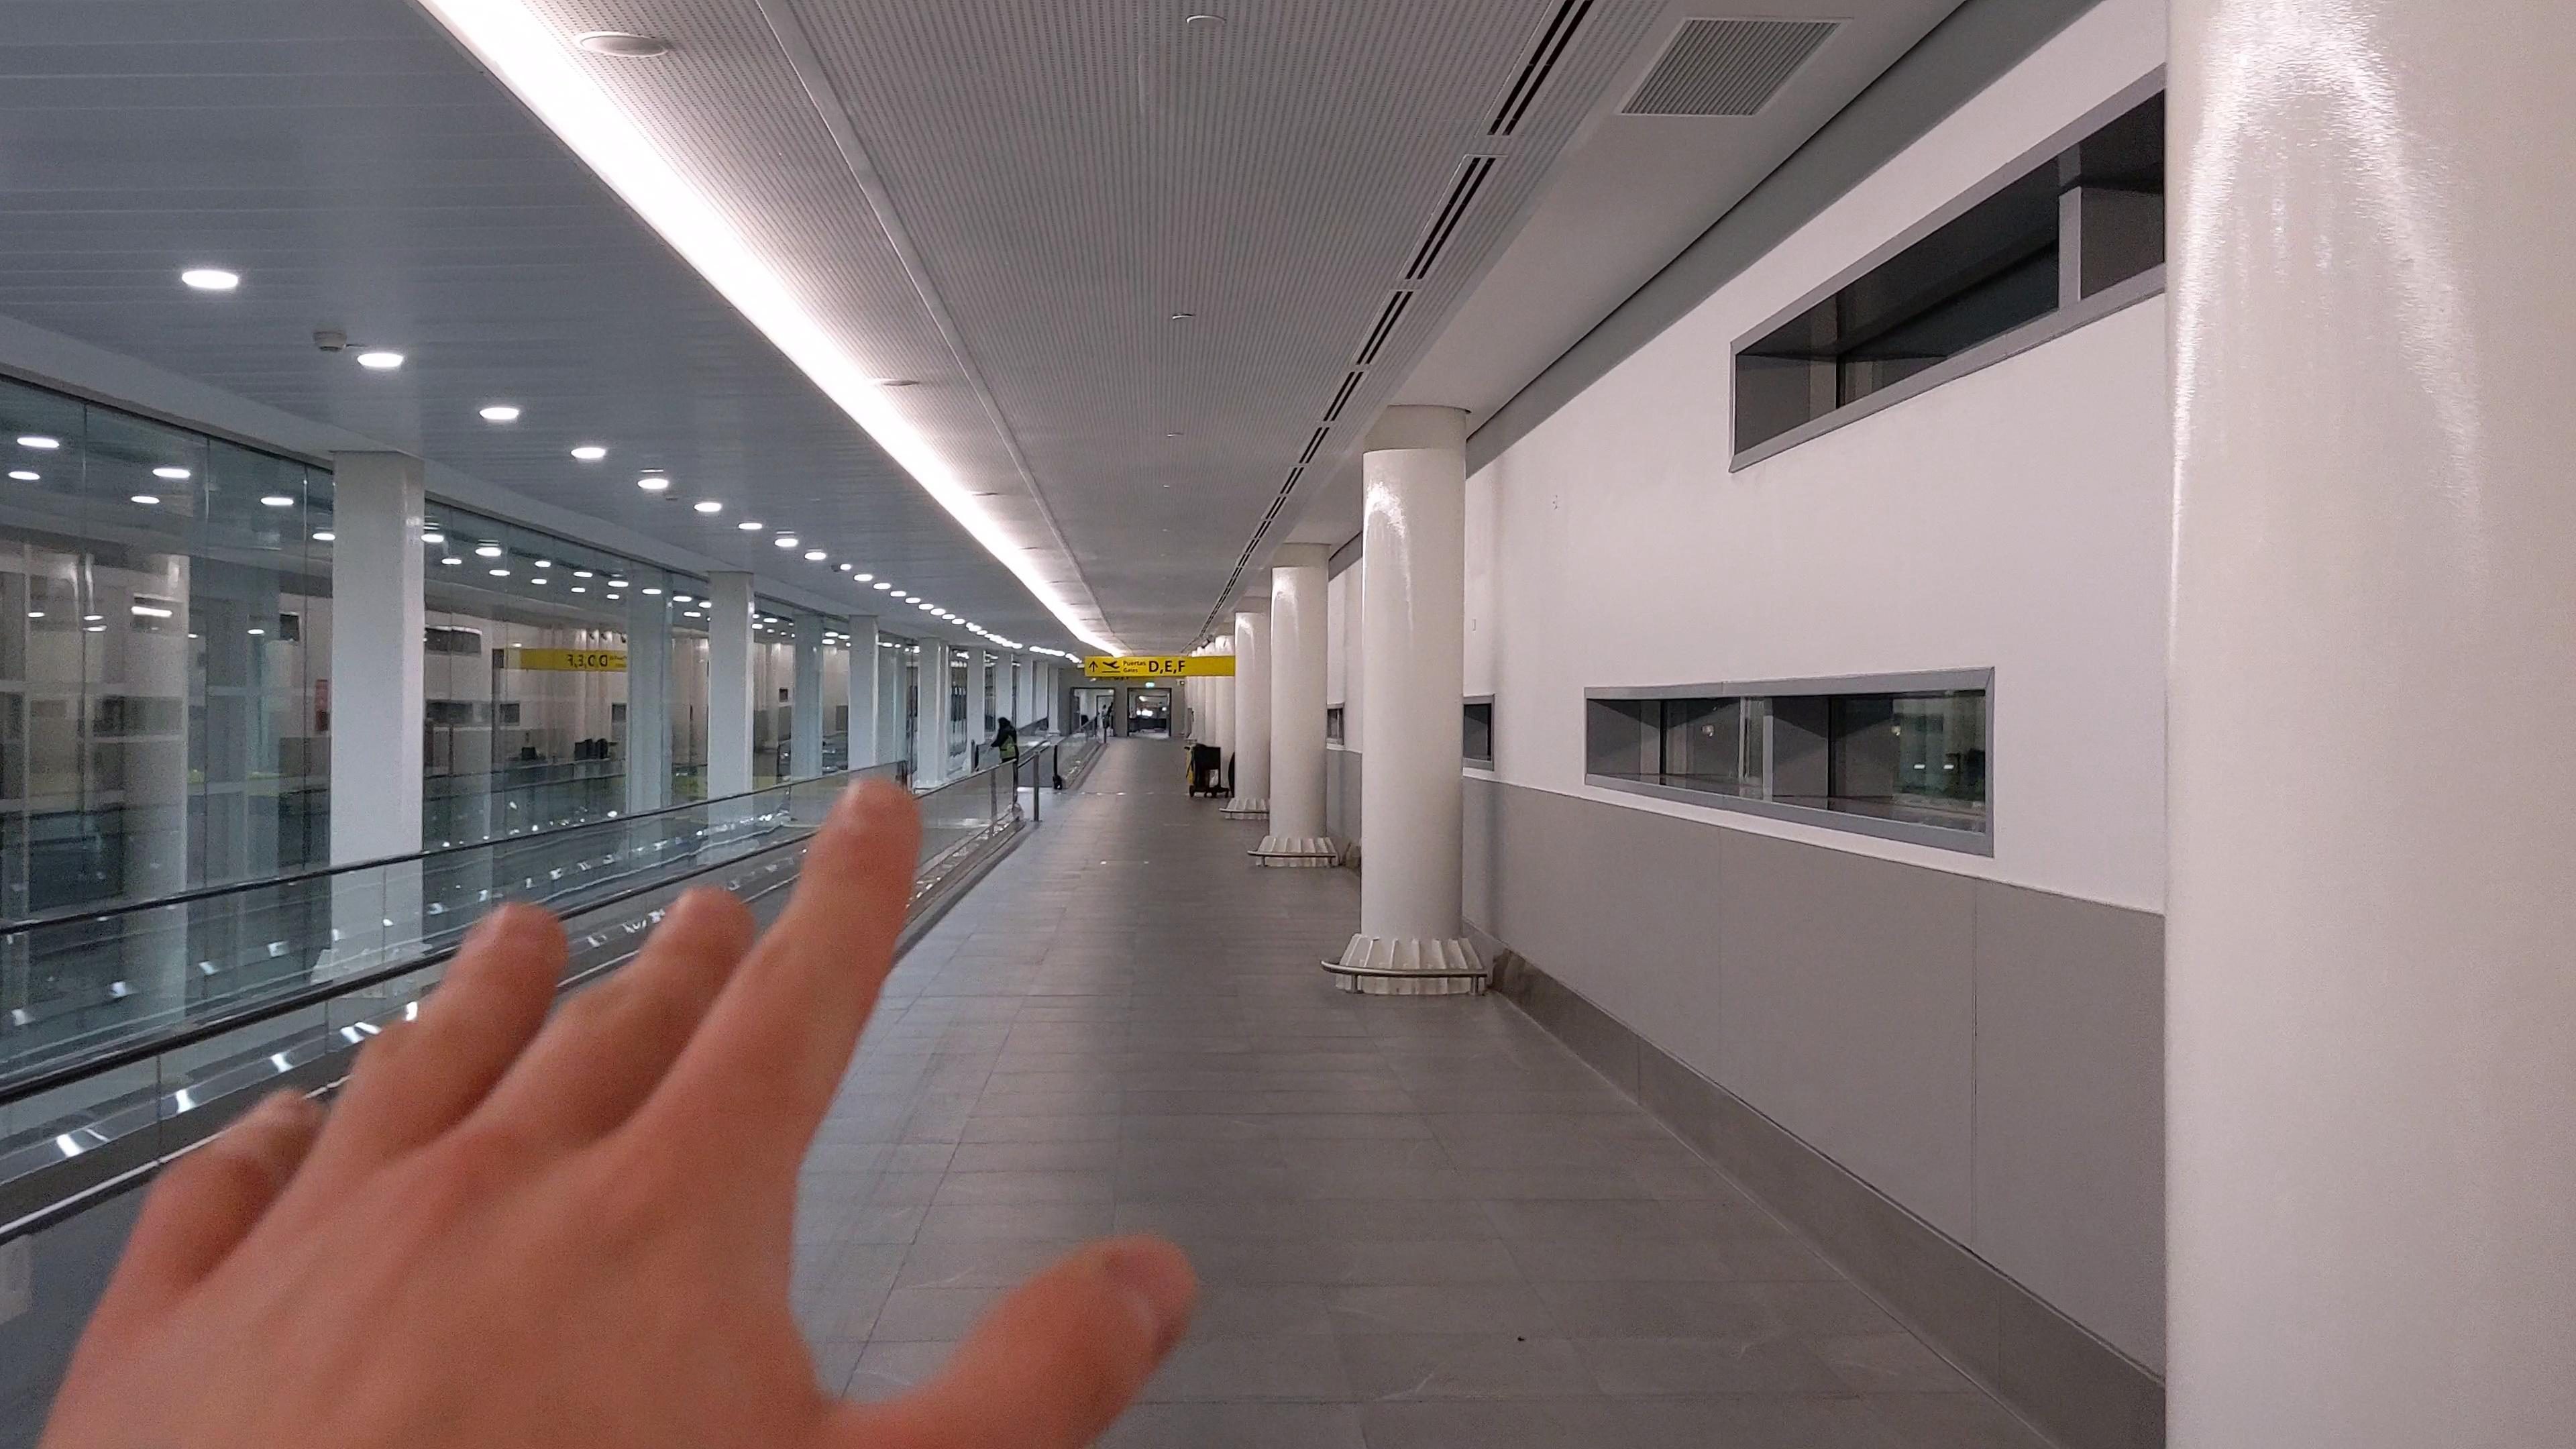airplane symbol: (1102, 660, 1120, 671)
thin up arrow: (1088, 660, 1099, 672)
